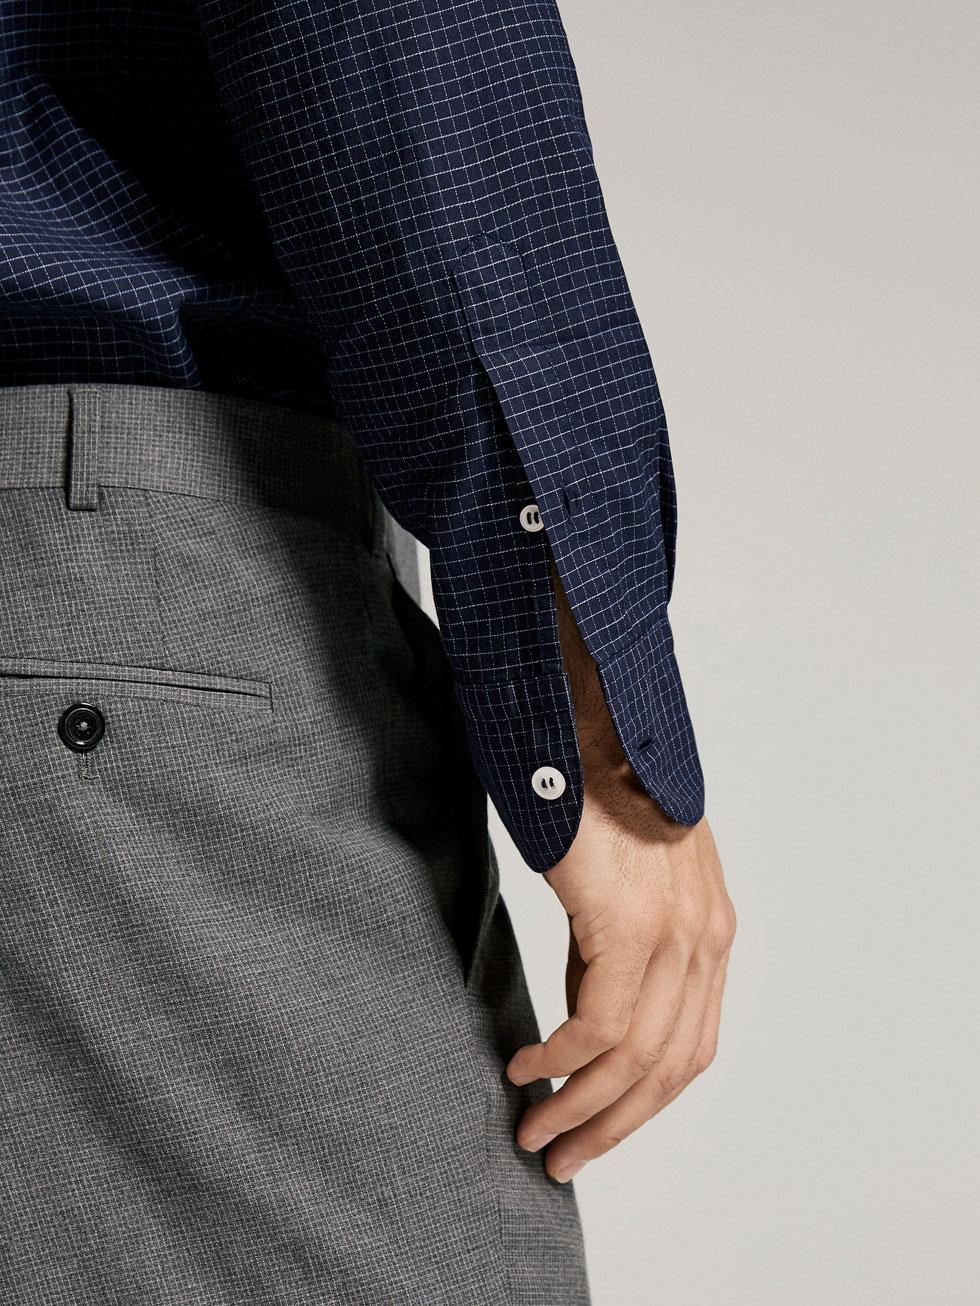teeshirt: (1, 4, 752, 875)
